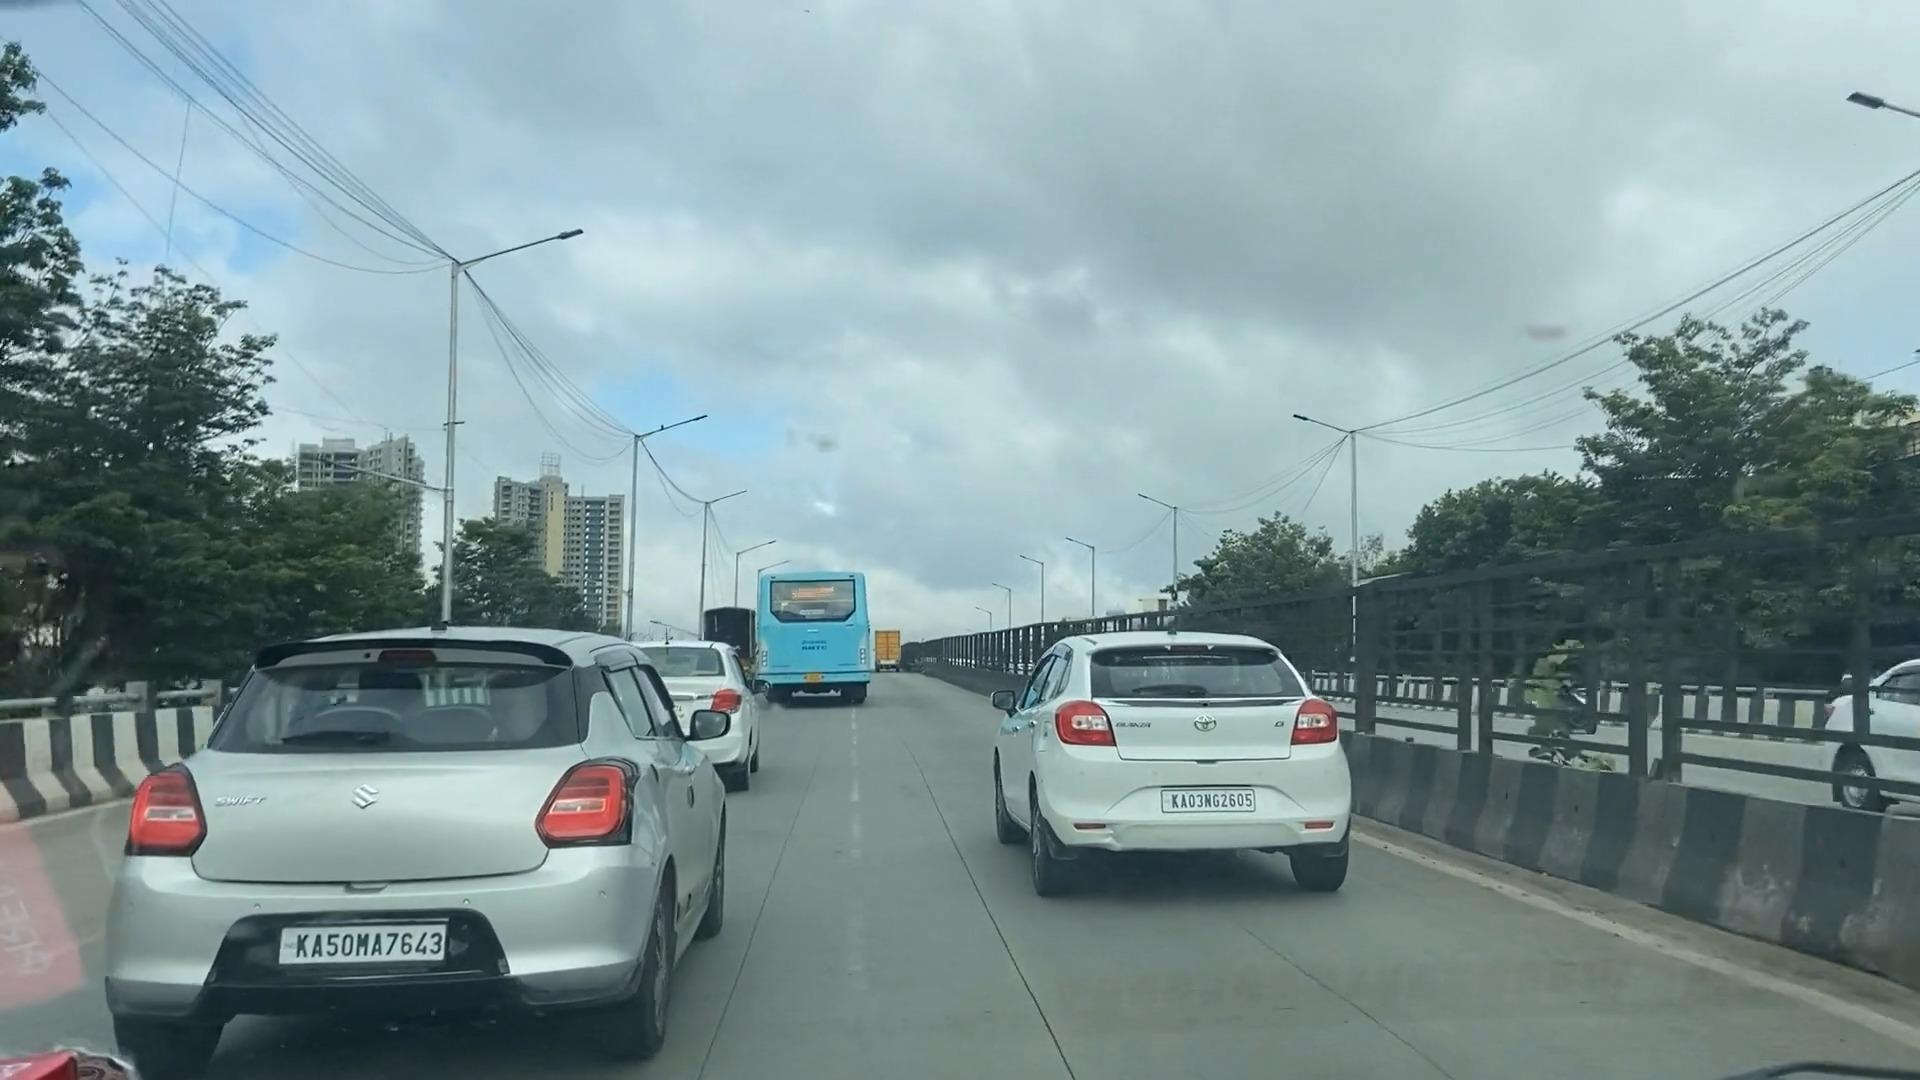HMV: (745, 537, 887, 728)
LMV: (100, 563, 736, 1080), (981, 616, 1383, 911)
